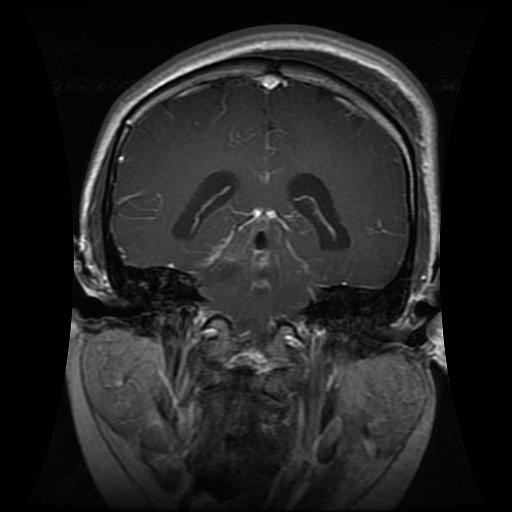Gliomia_tumour: (195, 202, 312, 292)
